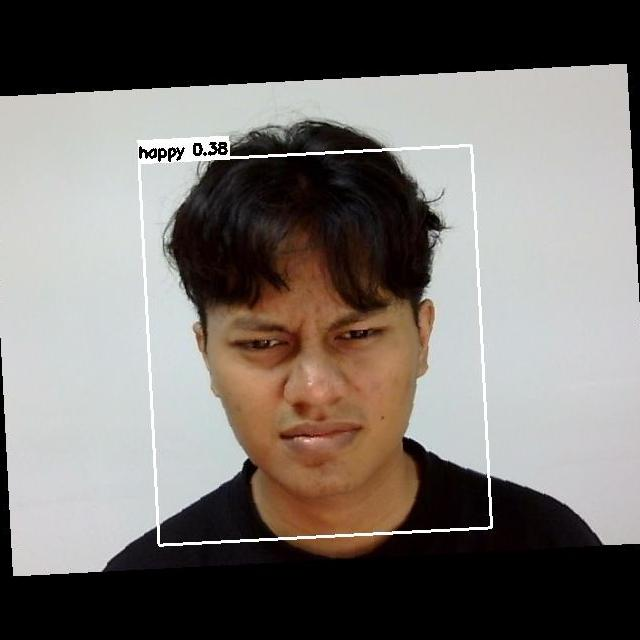Angry: (229, 303, 415, 475)
